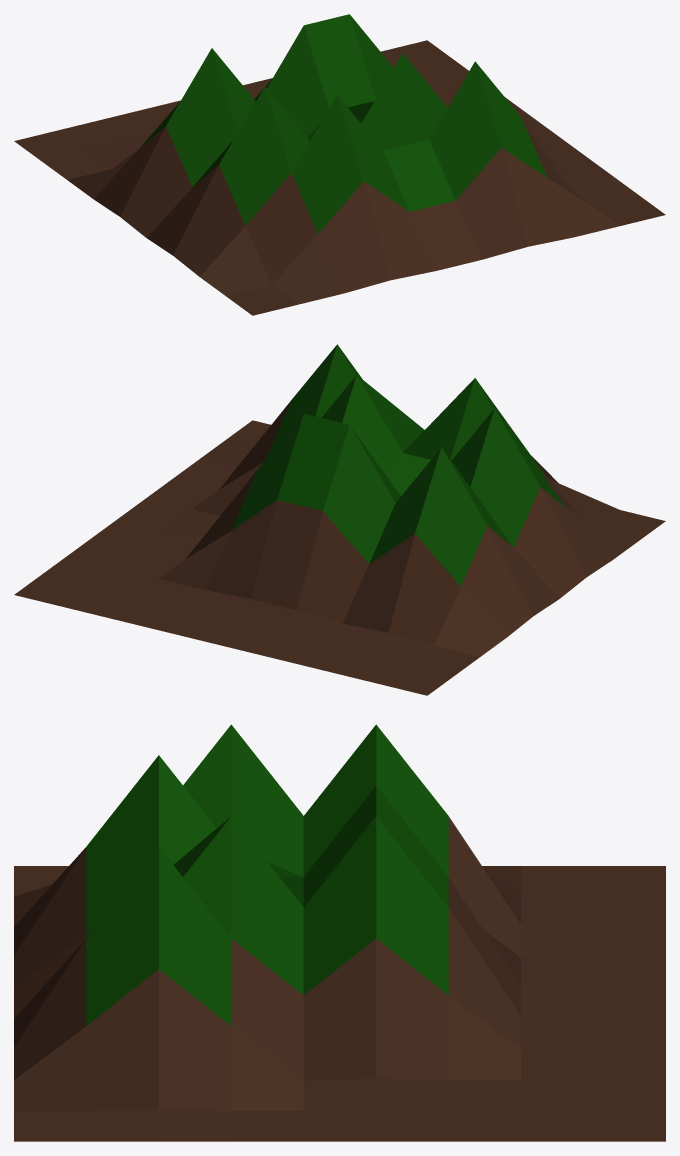
The model's file is MountGrass.fbx.
The picture shows the model from 3 angles, top to bottom: view 1: azimuth 30°, elevation 25°; view 2: azimuth 150°, elevation 25°; view 3: azimuth 270°, elevation 25°; orthographic projection. The views are drawn at different scales.
Parts seen in each view (by area): view 1: Plane; view 2: Plane; view 3: Plane.
Boxes of the visible parts, x1,y1,x2,y2 form: Plane: (14,14,665,315); Plane: (14,344,665,695); Plane: (14,724,665,1141).
Size of the model in its own units: 2127 by 730 by 2127.
1 material, 1 textured.
